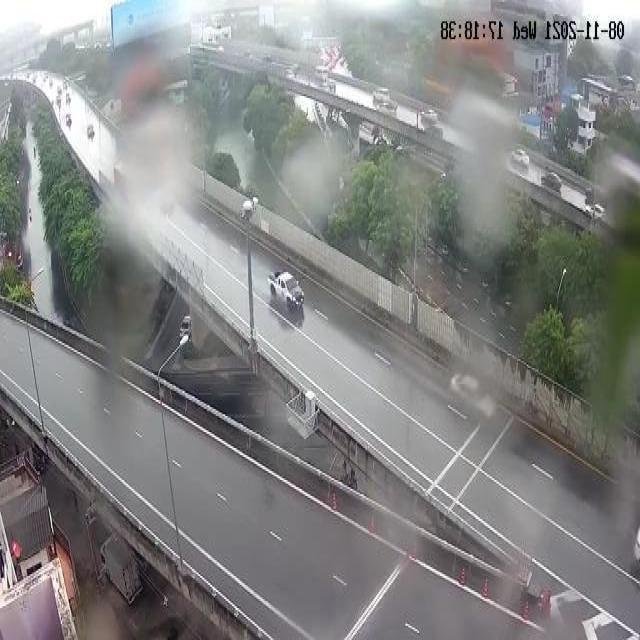Car: (270, 266, 306, 322)
